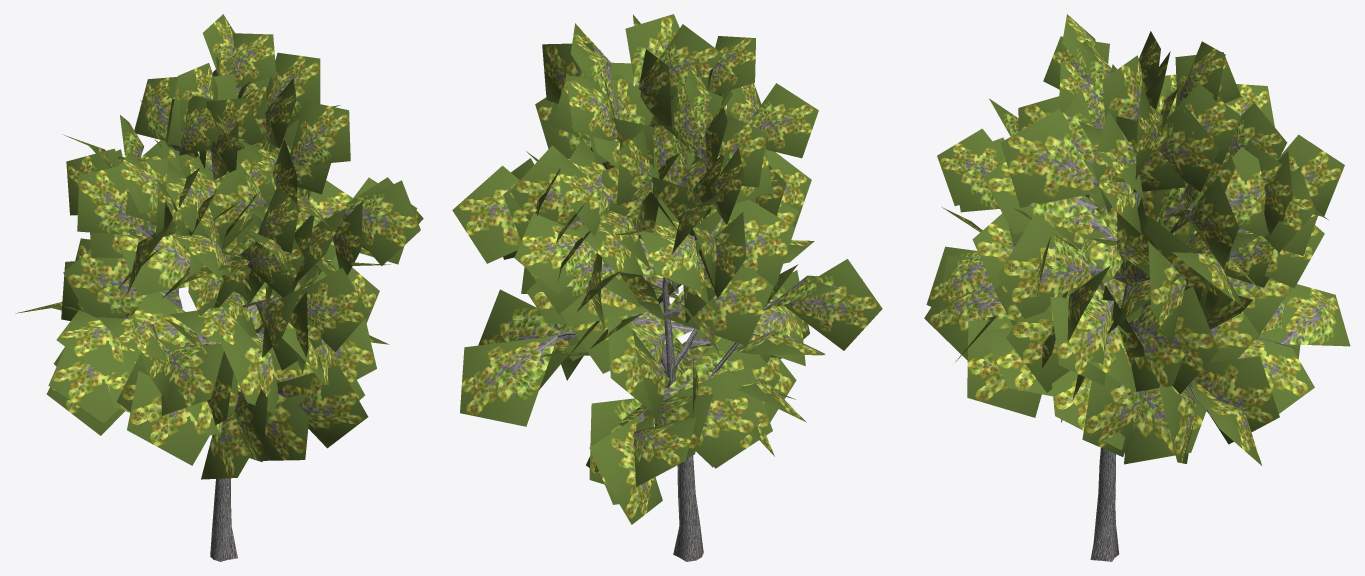
File: European_Linden_LowPoly.glb
3 renders of one model, left to right at view 1: azimuth 30°, elevation 25°; view 2: azimuth 150°, elevation 25°; view 3: azimuth 270°, elevation 25°, orthographic. The views are drawn at different scales.
Parts seen in each view (by area): view 1: EuropeanLinden_Mobile_14; view 2: EuropeanLinden_Mobile_14; view 3: EuropeanLinden_Mobile_14.
Boxes of the visible parts, x1,y1,x2,y2 form: EuropeanLinden_Mobile_14: (15, 14, 423, 561); EuropeanLinden_Mobile_14: (452, 14, 882, 561); EuropeanLinden_Mobile_14: (924, 14, 1350, 561).
Size of the model in its own units: 2.21 by 2.99 by 2.24.
3 materials, 3 textured.
